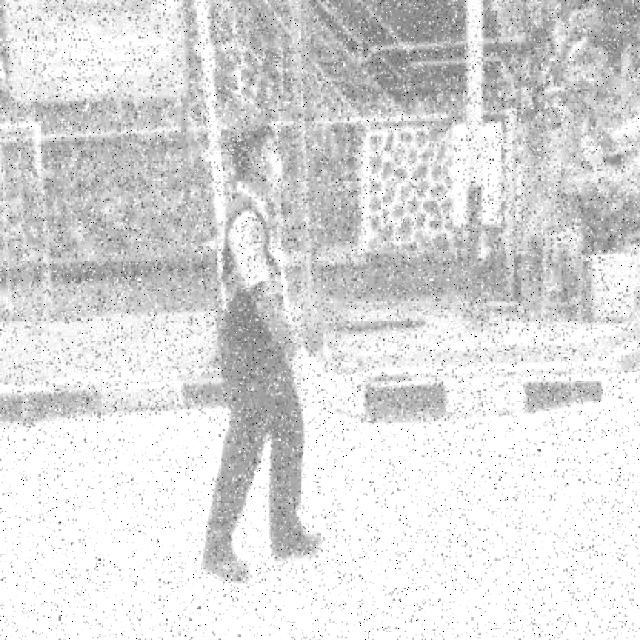Boots: (197, 546, 254, 588), (267, 526, 327, 560)
Gloves: (290, 341, 335, 410)
